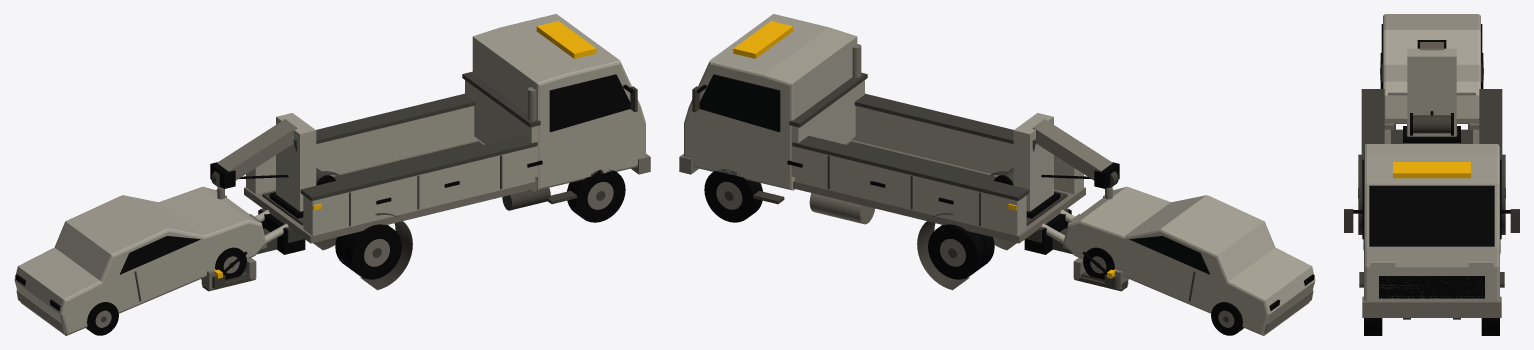
File: rollout-wheel-lift.obj
3 renders of one model, left to right at view 1: azimuth 30°, elevation 25°; view 2: azimuth 150°, elevation 25°; view 3: azimuth 270°, elevation 25°, orthographic. The views are drawn at different scales.
Visible parts, largest first — view 1: car_body, cab_shell, compartment_l, compartment_r, compartment_cap_l, cab_side_glass, body_floor, mast_column, headboard, compartment_cap_r, boom_arm, wheel_rear_l_1_tire (+11 smaller); view 2: car_body, cab_shell, compartment_r, compartment_l, compartment_cap_r, cab_side_glass, body_floor, mast_column, compartment_cap_l, headboard, boom_arm, wheel_rear_r_1_tire (+11 smaller); view 3: cab_shell, windshield, car_body, mast_column, grille, bumper, compartment_cap_l, compartment_cap_r, beacon_bar, winch_drum, mast_base, body_deck_plate (+13 smaller).
Boxes of the visible parts, x1,y1,x2,y2 form: car_body: [14, 186, 266, 335]; cab_shell: [472, 14, 645, 190]; compartment_l: [303, 147, 534, 235]; compartment_r: [246, 106, 477, 194]; compartment_cap_l: [300, 135, 537, 200]; cab_side_glass: [549, 74, 630, 132]; body_floor: [244, 139, 536, 243]; mast_column: [276, 113, 316, 211]; headboard: [465, 80, 538, 177]; compartment_cap_r: [316, 93, 475, 143]; boom_arm: [217, 119, 297, 180]; wheel_rear_l_1_tire: [344, 224, 401, 279]; car_body: [1063, 186, 1315, 335]; cab_shell: [684, 14, 857, 190]; compartment_r: [795, 147, 1026, 235]; compartment_l: [852, 106, 1083, 194]; compartment_cap_r: [792, 135, 1029, 200]; cab_side_glass: [699, 74, 780, 132]; body_floor: [793, 139, 1085, 243]; mast_column: [1013, 113, 1053, 211]; compartment_cap_l: [854, 93, 1013, 143]; headboard: [791, 80, 864, 177]; boom_arm: [1032, 119, 1112, 180]; wheel_rear_r_1_tire: [928, 224, 985, 279]; cab_shell: [1364, 144, 1499, 301]; windshield: [1369, 185, 1494, 246]; car_body: [1383, 14, 1480, 118]; mast_column: [1407, 48, 1456, 136]; grille: [1379, 276, 1484, 298]; bumper: [1362, 296, 1501, 317]; compartment_cap_l: [1361, 89, 1384, 205]; compartment_cap_r: [1479, 89, 1502, 205]; beacon_bar: [1393, 162, 1470, 178]; winch_drum: [1413, 115, 1450, 133]; mast_base: [1403, 126, 1460, 142]; body_deck_plate: [1391, 129, 1472, 143].
Size of the model in its own units: 12.05 by 3.41 by 3.08.
